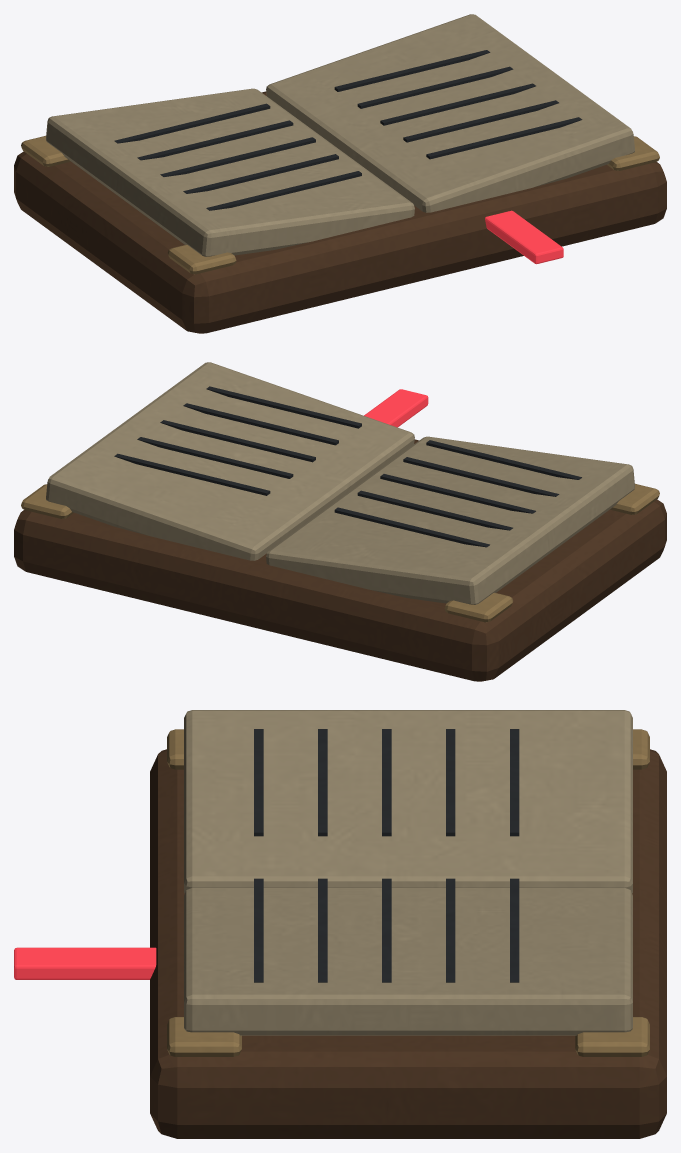
Rendered from lore_page.glb.
The picture shows the model from 3 angles, top to bottom: view 1: azimuth 30°, elevation 25°; view 2: azimuth 150°, elevation 25°; view 3: azimuth 270°, elevation 25°; orthographic projection. The views are drawn at different scales.
Parts seen in each view (by area): view 1: lore_page; view 2: lore_page; view 3: lore_page.
Part boxes in pixels (x1,y1,x2,y2): lore_page: [14, 14, 666, 333]; lore_page: [14, 362, 666, 681]; lore_page: [14, 710, 666, 1138].
Bounding box in the file's own units: 0.57 × 0.1078 × 0.48.
Materials: 5 (4 with a texture image).
